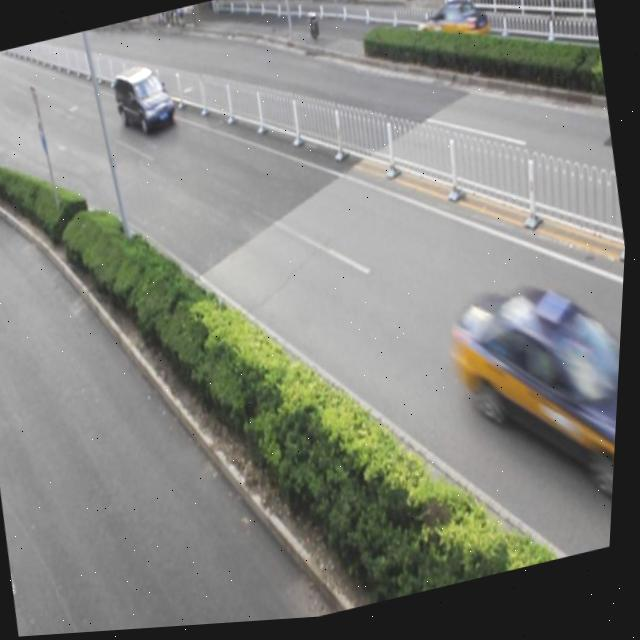car: (444, 266, 628, 552), (410, 0, 494, 72), (110, 60, 178, 145)
